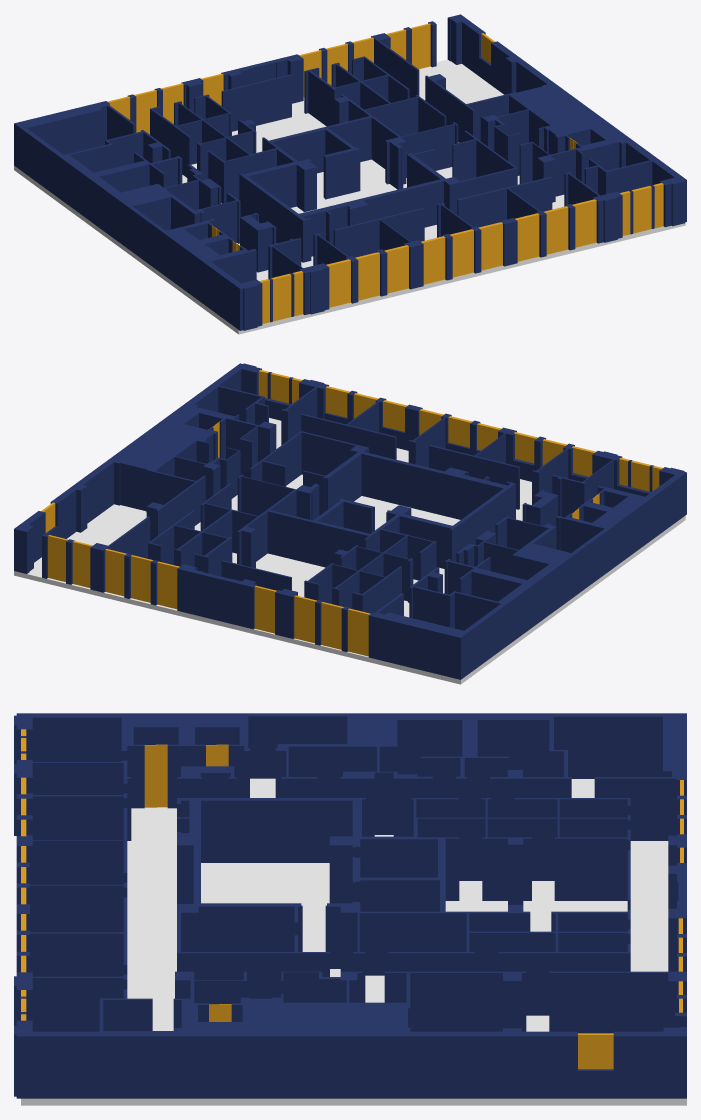
Rendered from 16W 10th Floor.fbx.
3 renders of one model, top to bottom at view 1: azimuth 30°, elevation 25°; view 2: azimuth 150°, elevation 25°; view 3: azimuth 270°, elevation 25°, orthographic. The views are drawn at different scales.
Parts seen in each view (by area): view 1: Walls, Interior Members, Object_104; view 2: Walls, Interior Members, Object_104; view 3: Walls, Object_104, Interior Members.
Part boxes in pixels (left/top/right/bottom): Walls: left=14, top=14, right=686, bottom=330; Interior Members: left=107, top=23, right=663, bottom=323; Object_104: left=14, top=59, right=685, bottom=334; Walls: left=14, top=363, right=686, bottom=679; Interior Members: left=41, top=369, right=662, bottom=656; Object_104: left=14, top=418, right=685, bottom=684; Walls: left=14, top=713, right=686, bottom=1098; Object_104: left=21, top=778, right=686, bottom=1105; Interior Members: left=21, top=729, right=683, bottom=1069.
Size of the model in its own units: 1201 by 1057 by 120.
